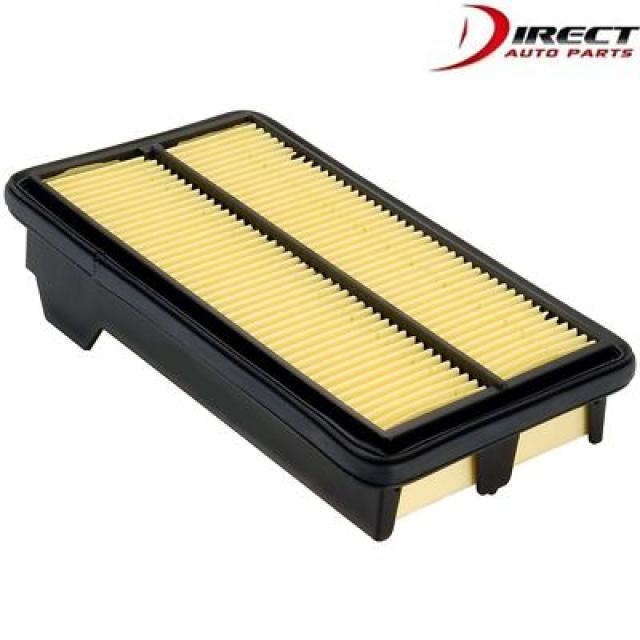air_filter: (19, 108, 638, 537)
